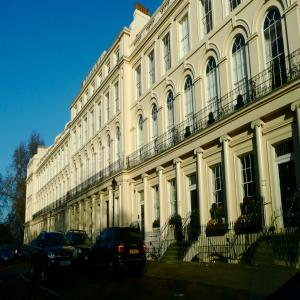Vehicle-registration-plate: (130, 250, 139, 254)
